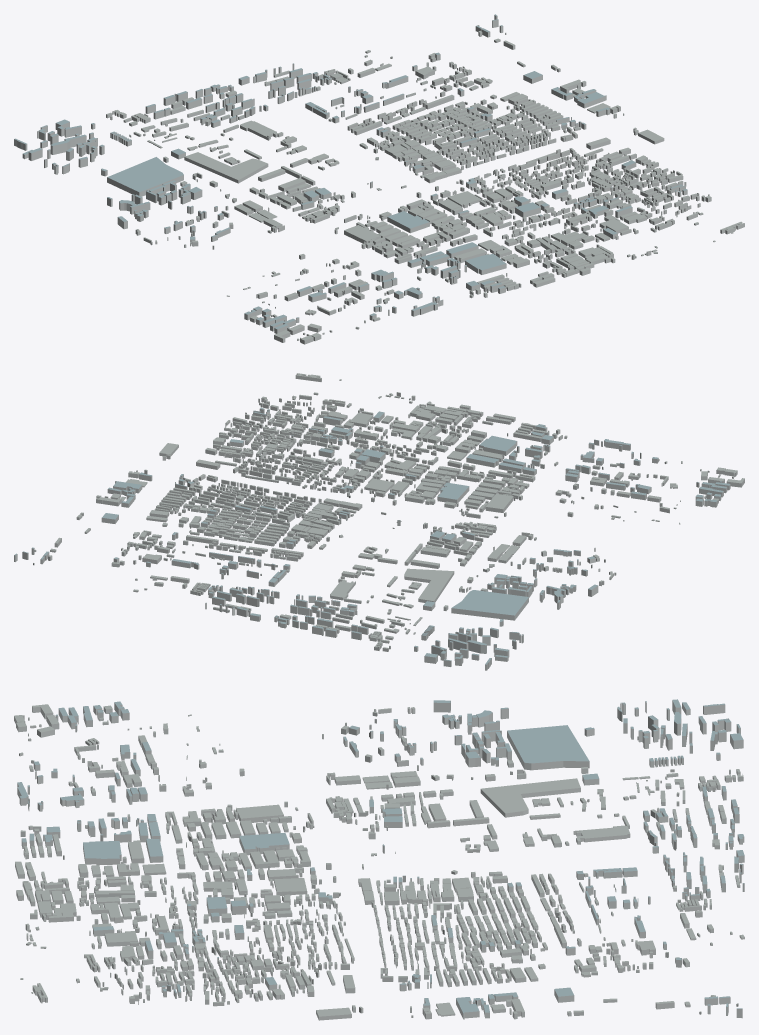
File: far.glb
3 views of the same model, one above another, from view 1: azimuth 30°, elevation 25°; view 2: azimuth 150°, elevation 25°; view 3: azimuth 270°, elevation 25° (orthographic). The views are drawn at different scales.
Bounding box in the file's own units: 2136 × 37.45 × 2111.
